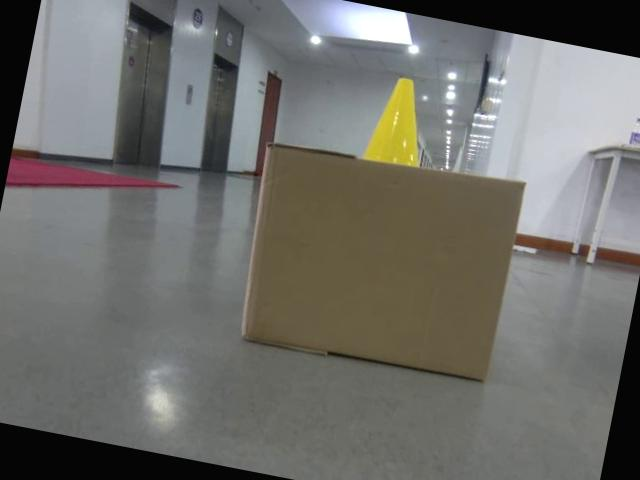yellow_barrel: (368, 74, 435, 168)
